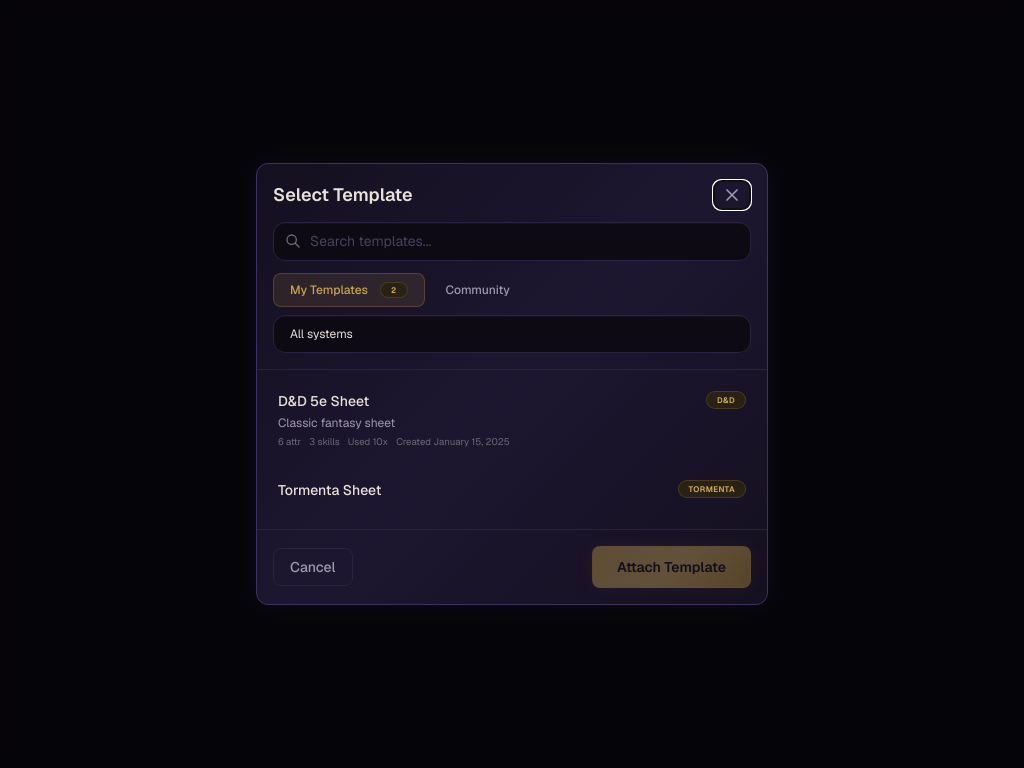
it: TemplatePickerModal › filters my templates by system via the system select
Check: the text "D&D 5e Sheet" is shown, box [278,391,369,411]
Select "D&D" in the dropdown named "Filter by system" at (512, 334), box [273,315,751,353]
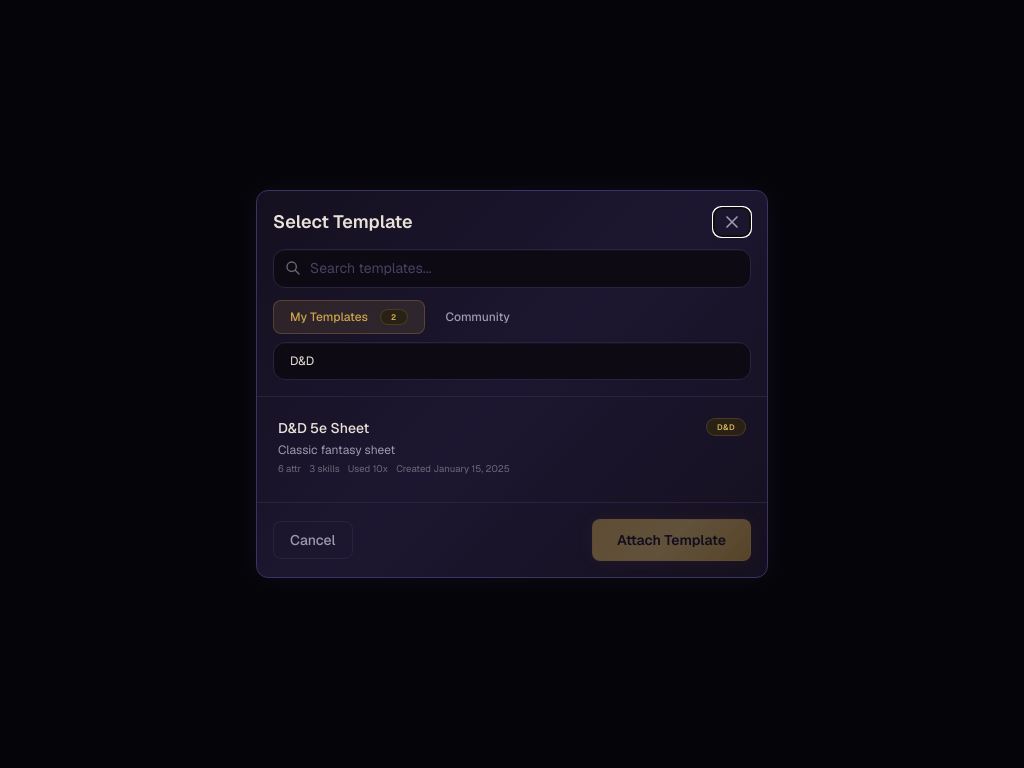
Check: the text "D&D 5e Sheet" is shown, box [278,418,369,438]
Check: the button "Tormenta Sheet" is gone
Select "All systems" in the dropdown named "Filter by system" at (512, 361), box [273,342,751,380]
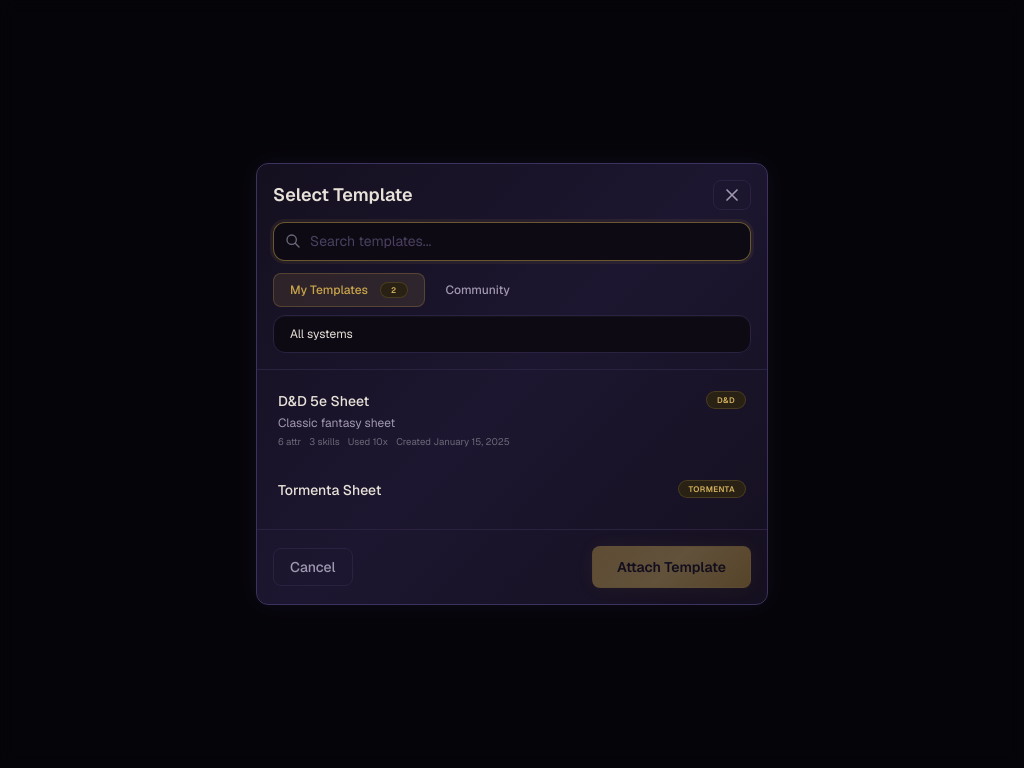
Check: the text "Tormenta Sheet" is shown, box [278,480,382,500]
